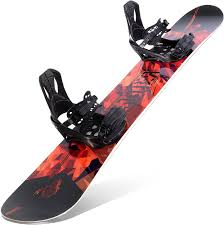snowboard: (1, 3, 223, 223)
